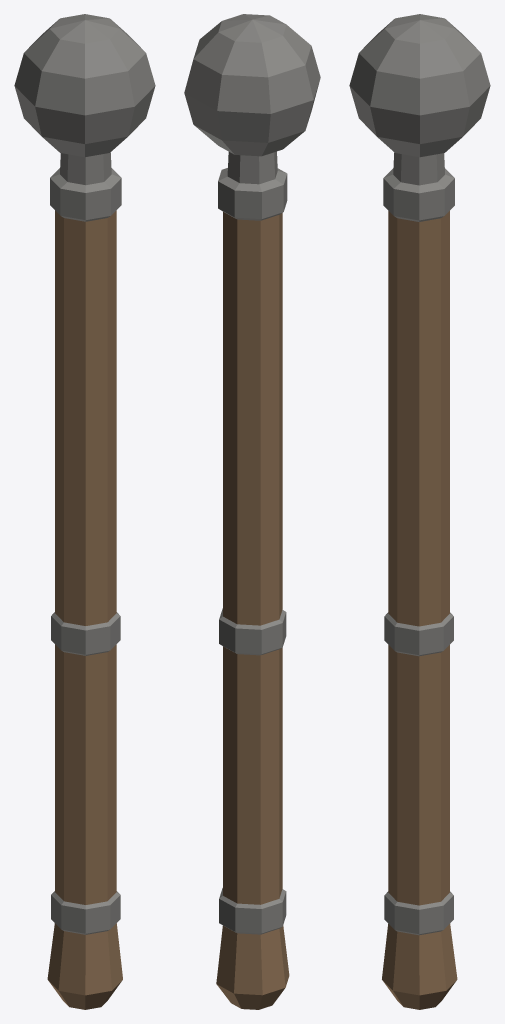
The model's file is SM_pwe_medieval_mace_01.fbx.
The picture shows the model from 3 angles, left to right: view 1: azimuth 90°, elevation 25°; view 2: azimuth 150°, elevation 25°; view 3: azimuth 270°, elevation 25°; orthographic projection.
Parts seen in each view (by area): view 1: SM_pwe_medieval_mace_01; view 2: SM_pwe_medieval_mace_01; view 3: SM_pwe_medieval_mace_01.
Boxes of the visible parts, x1=… form: SM_pwe_medieval_mace_01: x1=14, y1=14, x2=155, y2=1009; SM_pwe_medieval_mace_01: x1=184, y1=14, x2=320, y2=1009; SM_pwe_medieval_mace_01: x1=349, y1=14, x2=490, y2=1009.
Bounding box in the file's own units: 10.46 × 80.12 × 10.46.
